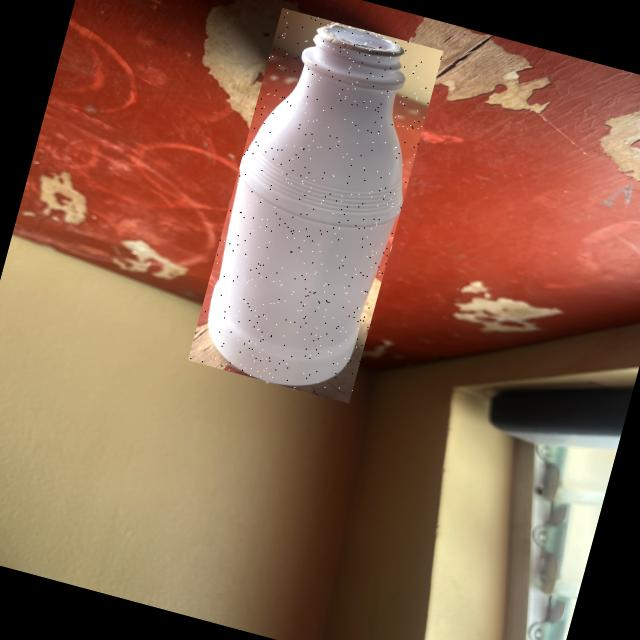HDPE_Bottle: (208, 24, 403, 385)
